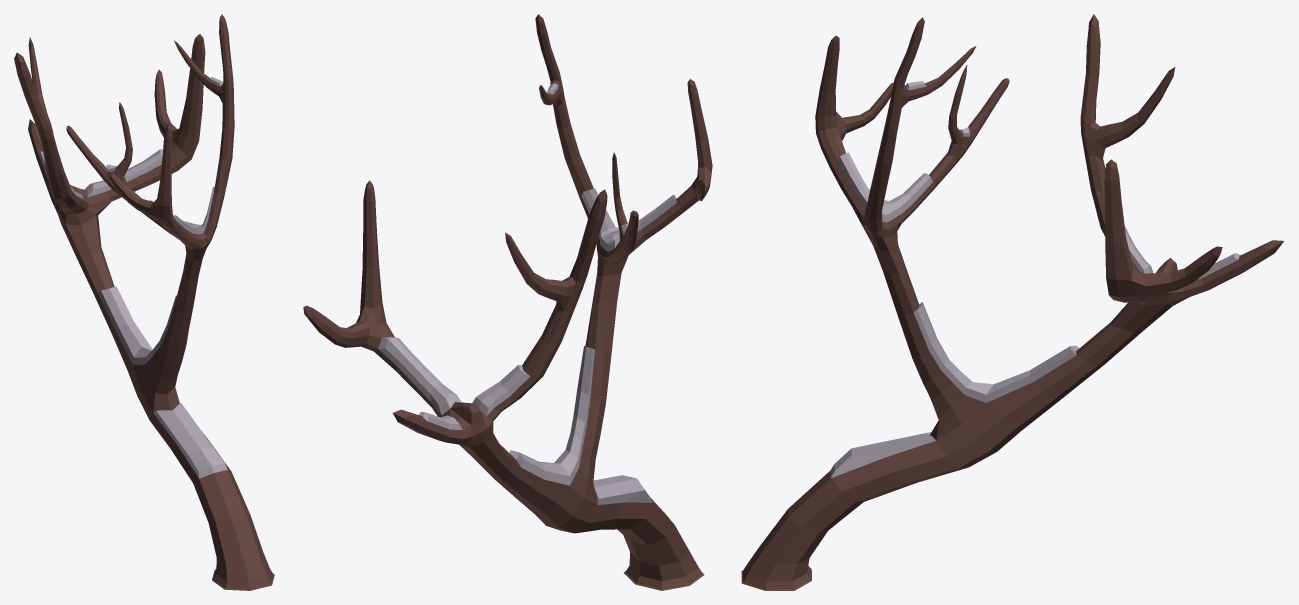
File: willow_dead_snow2.glb
3 views of the same model, side by side, from view 1: azimuth 30°, elevation 25°; view 2: azimuth 150°, elevation 25°; view 3: azimuth 270°, elevation 25° (orthographic). The views are drawn at different scales.
Visible parts, largest first — view 1: Willow_Dead_Snow_2; view 2: Willow_Dead_Snow_2; view 3: Willow_Dead_Snow_2.
Part boxes in pixels (bbox=[...]): Willow_Dead_Snow_2: bbox=[14, 14, 274, 590]; Willow_Dead_Snow_2: bbox=[303, 14, 712, 590]; Willow_Dead_Snow_2: bbox=[741, 14, 1283, 590].
Bounding box in the file's own units: 1.17 × 2.84 × 2.4.
